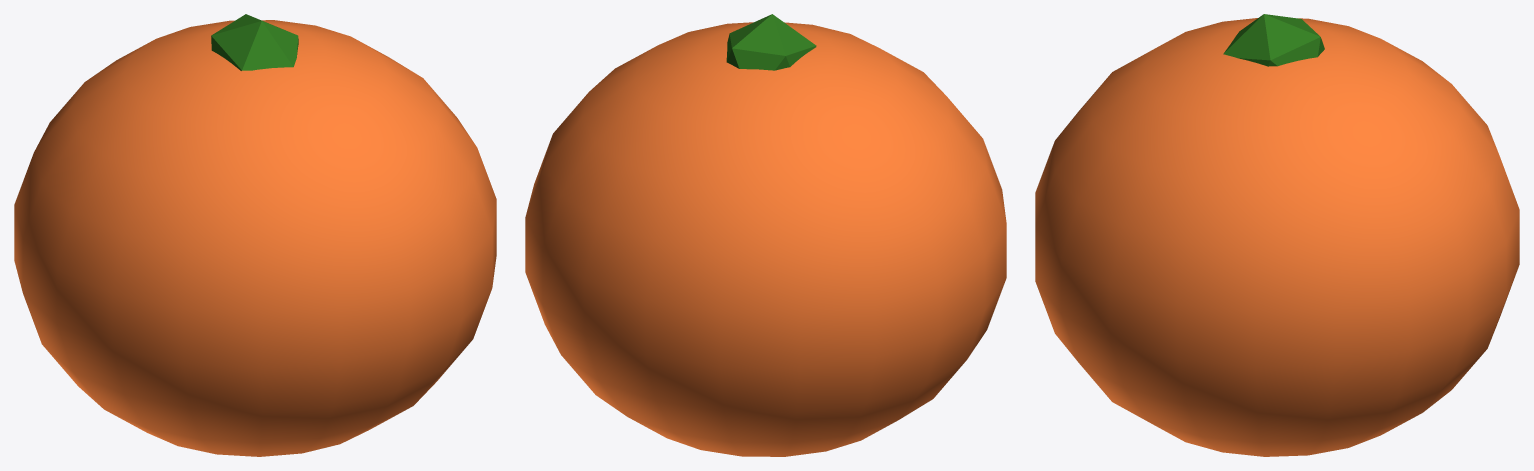
Rendered from orange.fbx.
3 renders of one model, left to right at view 1: azimuth 30°, elevation 25°; view 2: azimuth 150°, elevation 25°; view 3: azimuth 270°, elevation 25°, orthographic.
Visible parts, largest first — view 1: Icosphere; view 2: Icosphere; view 3: Icosphere.
Part boxes in pixels (x1,y1,x2,y2): Icosphere: [14, 14, 496, 456]; Icosphere: [525, 14, 1006, 456]; Icosphere: [1035, 14, 1519, 456].
Size of the model in its own units: 10.19 by 9.67 by 10.15.
